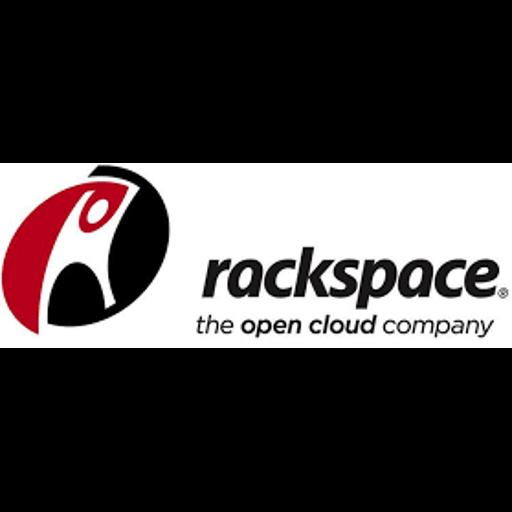Rackspace: (0, 163, 512, 348)
